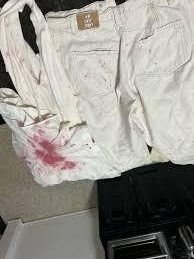lipstick: (31, 132, 76, 168), (42, 147, 61, 166), (62, 158, 82, 174), (5, 50, 20, 60), (97, 61, 106, 68), (154, 62, 161, 69)
